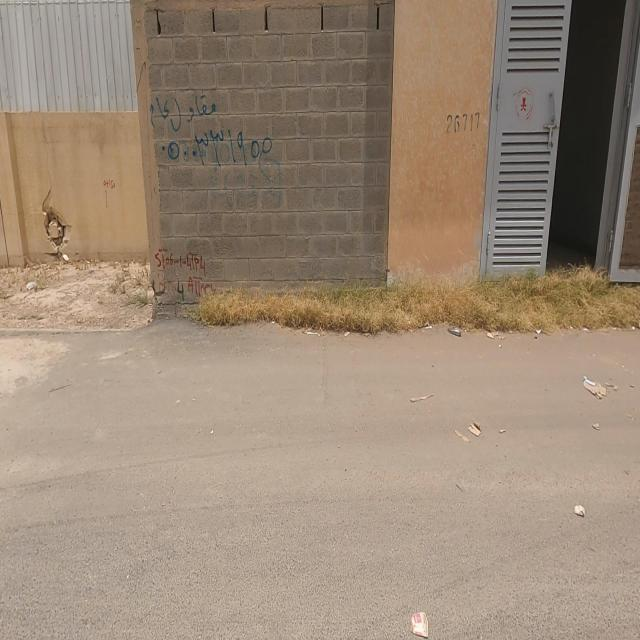Graffiti: (146, 91, 270, 169), (154, 245, 208, 294), (444, 109, 481, 134), (101, 176, 116, 205)
